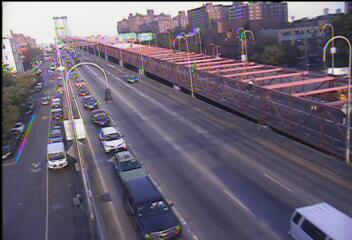neg: (202, 164, 232, 203), (33, 117, 61, 155), (154, 33, 180, 67), (83, 100, 108, 132), (138, 178, 162, 210), (235, 105, 258, 136), (36, 176, 58, 205), (167, 103, 189, 132), (207, 65, 228, 93), (284, 63, 304, 90), (51, 14, 70, 40), (237, 19, 256, 44), (10, 90, 29, 115), (118, 137, 136, 161), (55, 70, 72, 92), (322, 33, 337, 54), (109, 31, 123, 50)
